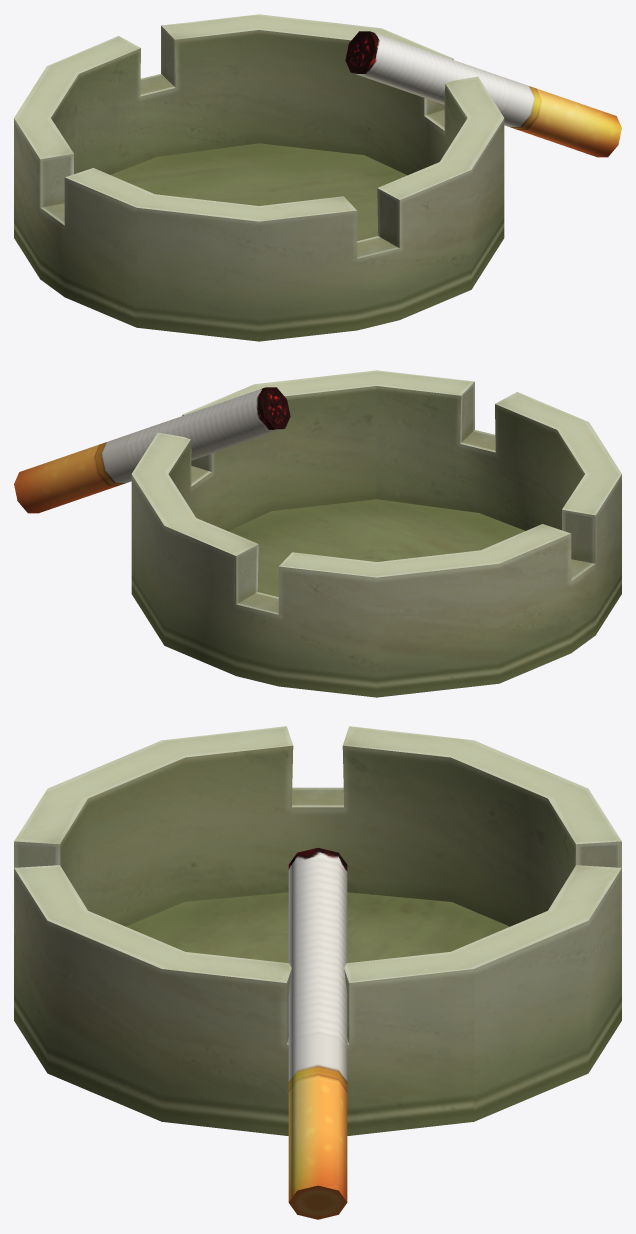
File: G_ShenXunShi_yanhuigang_01_uv2.FBX
The picture shows the model from 3 angles, top to bottom: view 1: azimuth 30°, elevation 25°; view 2: azimuth 150°, elevation 25°; view 3: azimuth 270°, elevation 25°; orthographic projection. The views are drawn at different scales.
Parts seen in each view (by area): view 1: pCylinder18; view 2: pCylinder18; view 3: pCylinder18.
Boxes of the visible parts, bbox=[...] form: pCylinder18: bbox=[14, 14, 621, 341]; pCylinder18: bbox=[14, 370, 621, 697]; pCylinder18: bbox=[14, 726, 621, 1219].
Size of the model in its own units: 21.88 by 6.72 by 16.03.
